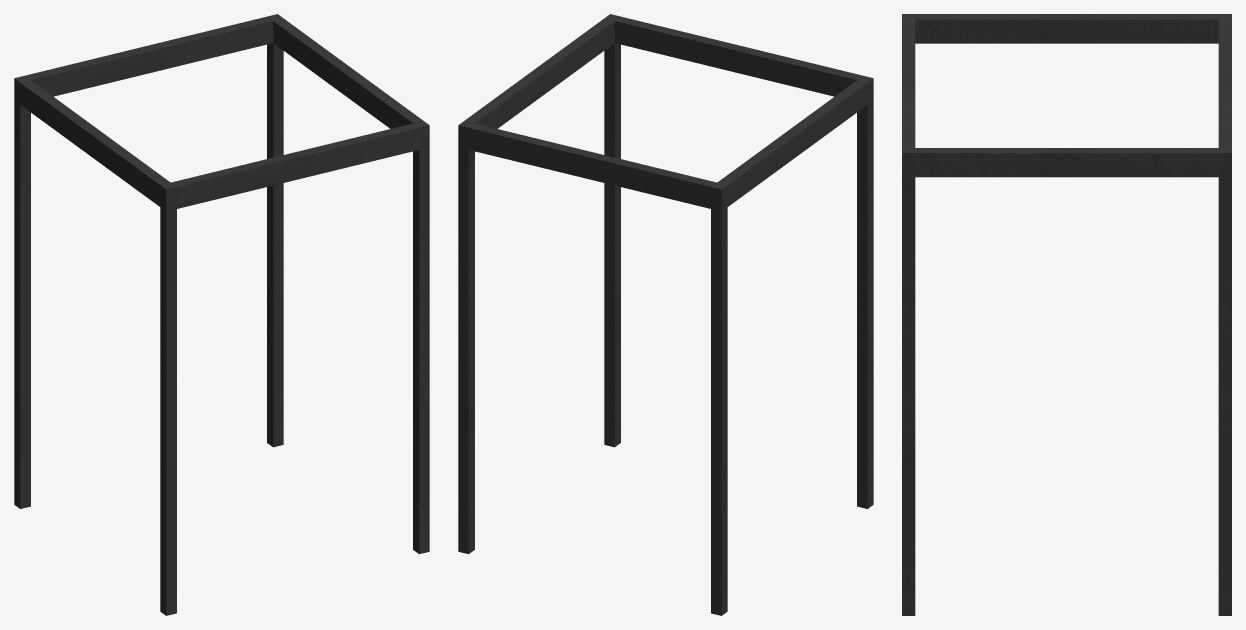
Rendered from fp-dokurtu_1k-6s_matblack.fbx.
The picture shows the model from 3 angles, left to right: view 1: azimuth 30°, elevation 25°; view 2: azimuth 150°, elevation 25°; view 3: azimuth 270°, elevation 25°; orthographic projection. The views are drawn at different scales.
Parts seen in each view (by area): view 1: fp-dokurtu_1k-6s_matblack; view 2: fp-dokurtu_1k-6s_matblack; view 3: fp-dokurtu_1k-6s_matblack.
Boxes of the visible parts, x1=… form: fp-dokurtu_1k-6s_matblack: x1=14, y1=14, x2=429, y2=615; fp-dokurtu_1k-6s_matblack: x1=458, y1=14, x2=873, y2=615; fp-dokurtu_1k-6s_matblack: x1=902, y1=14, x2=1231, y2=615.
Bounding box in the file's own units: 187 × 290 × 187.
Materials: 1 (1 with a texture image).
